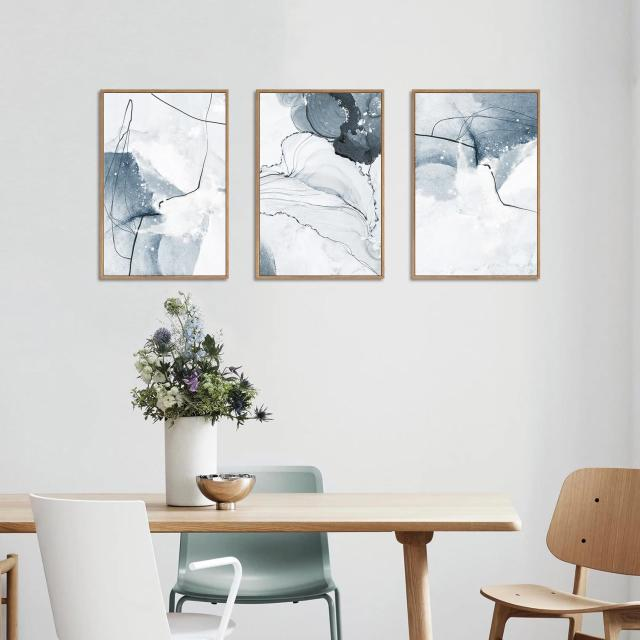painting: (253, 90, 381, 279), (100, 89, 227, 278), (414, 91, 541, 280)
